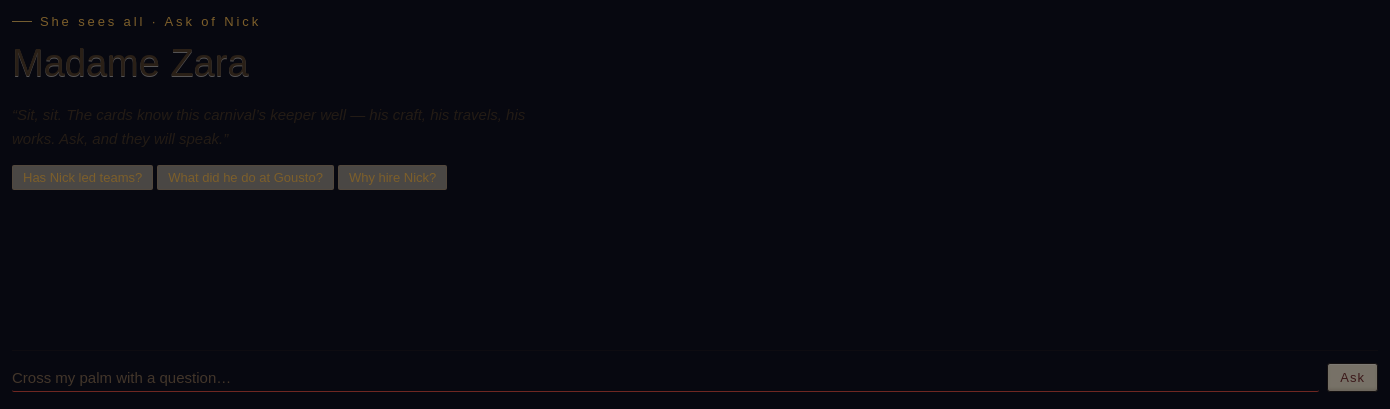
Scenario: FortunePanel › renders a card-less reply entirely as body text
The width and height of the screenshot is (1390, 409).
Click the button "Why hire Nick?".
click(393, 178)  # box [338, 165, 447, 190]
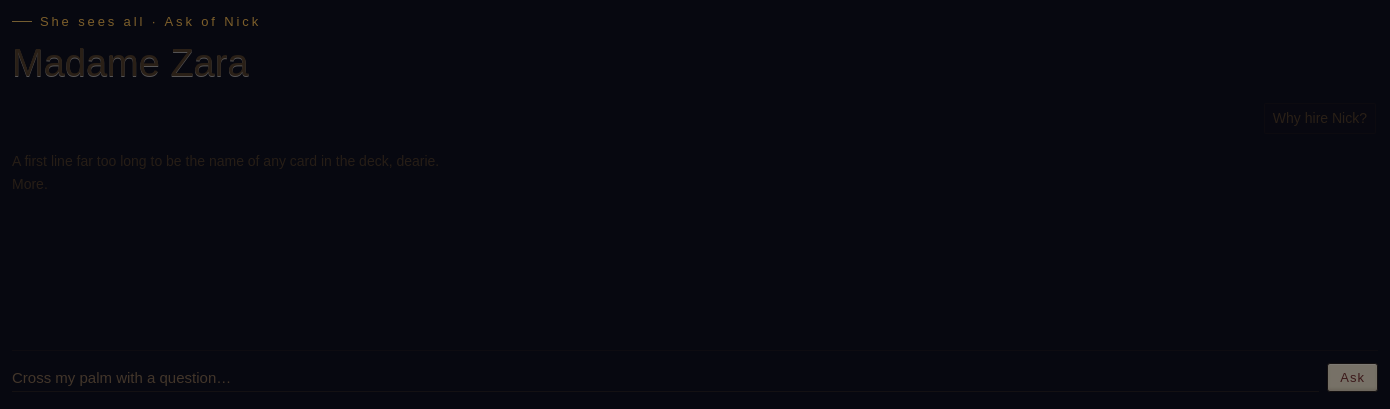
Now the text "far too long to be the name" is shown, box [12, 153, 439, 192]
